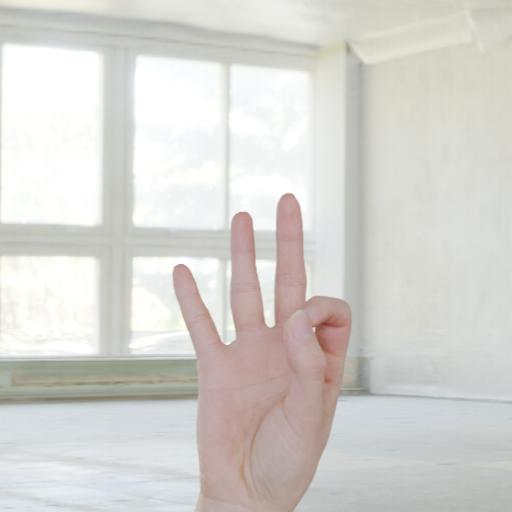F: (166, 191, 358, 504)
